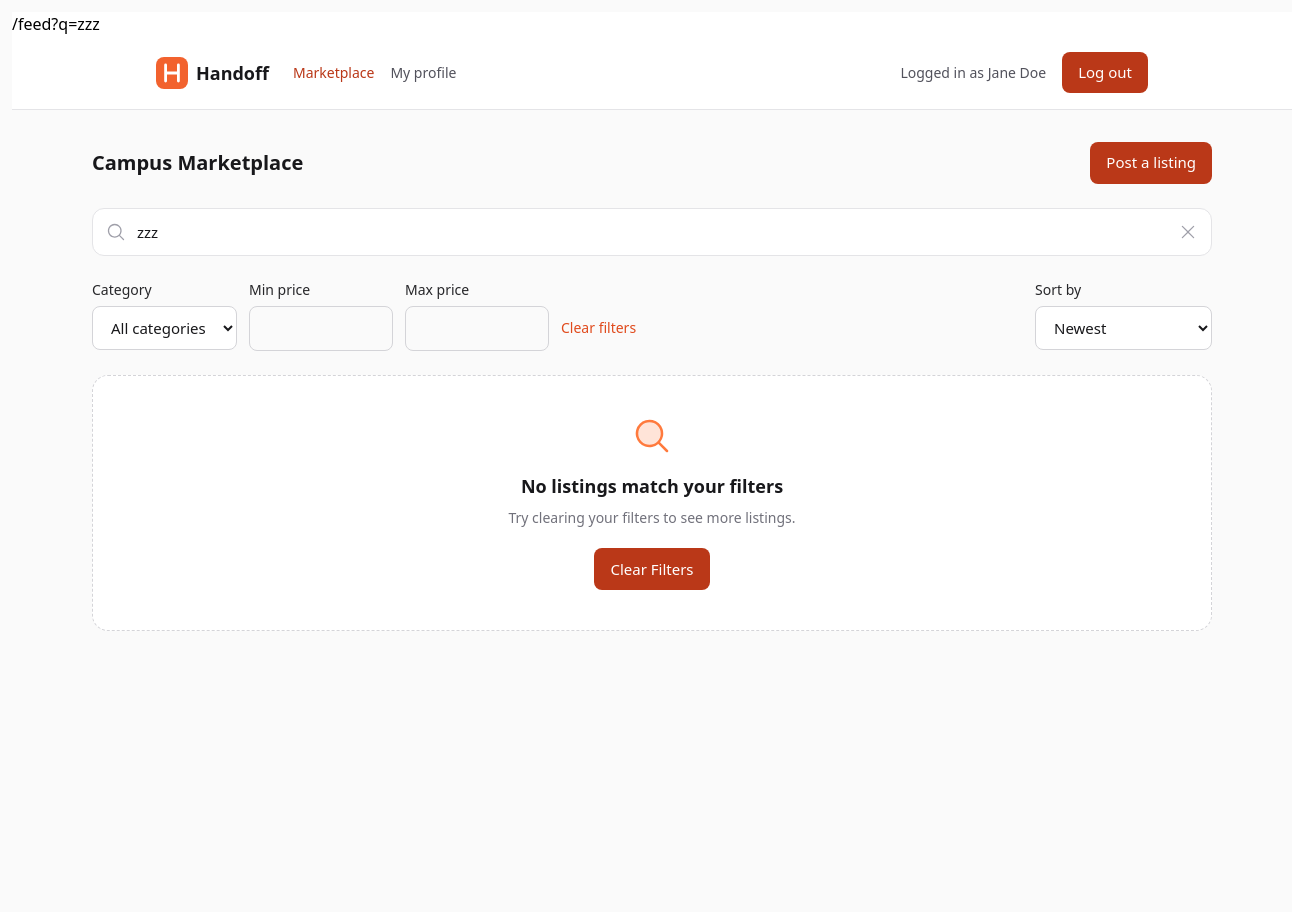
it: FeedPage › Clear Filters empties the search box
Click the button "Clear Filters": (652, 569) [594,548,710,590]
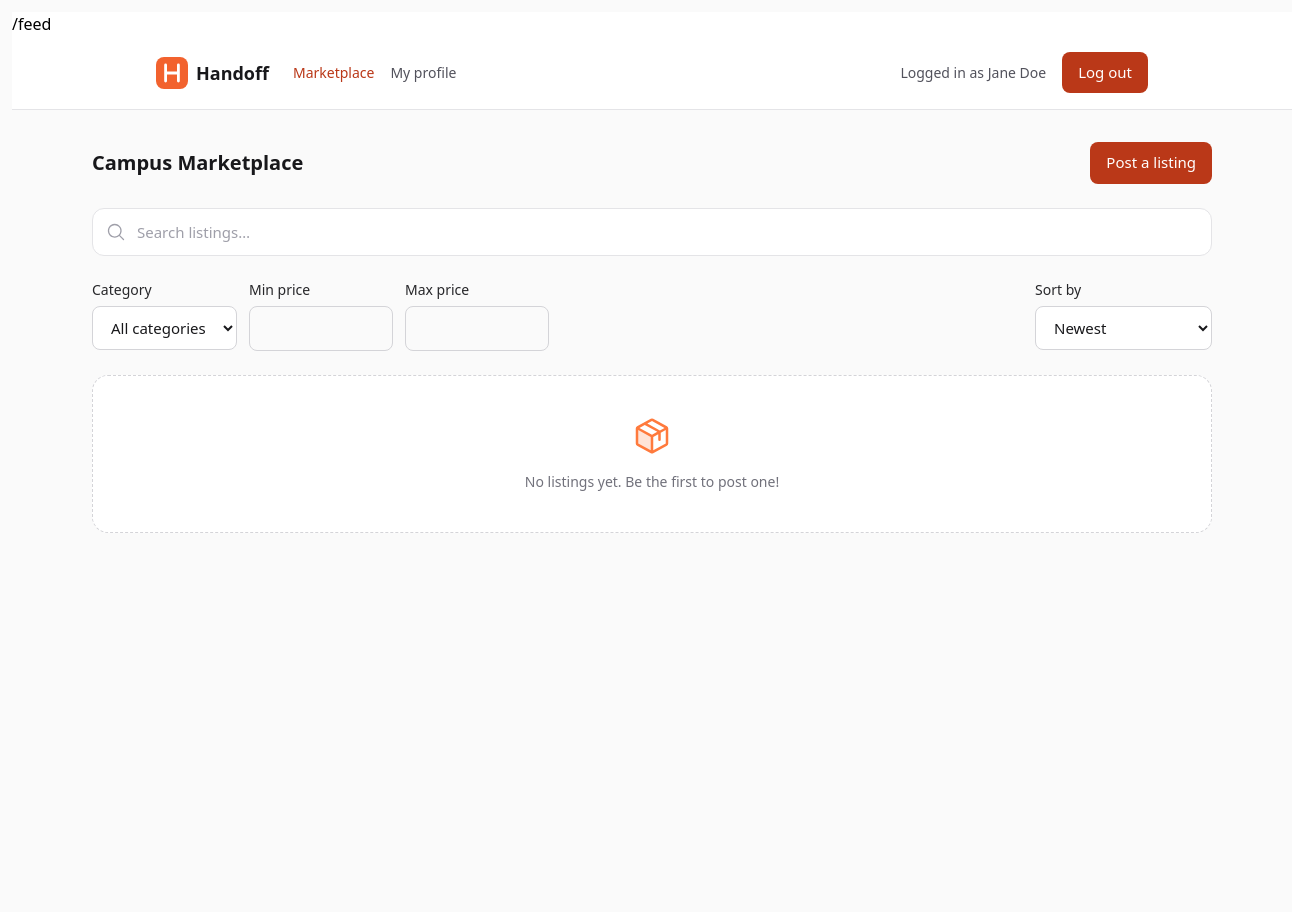
Check: the text with test id "location" reads "/feed", box [12,13,51,35]
Check: the search field labelled "Search listings" is empty, box [92,208,1212,256]
